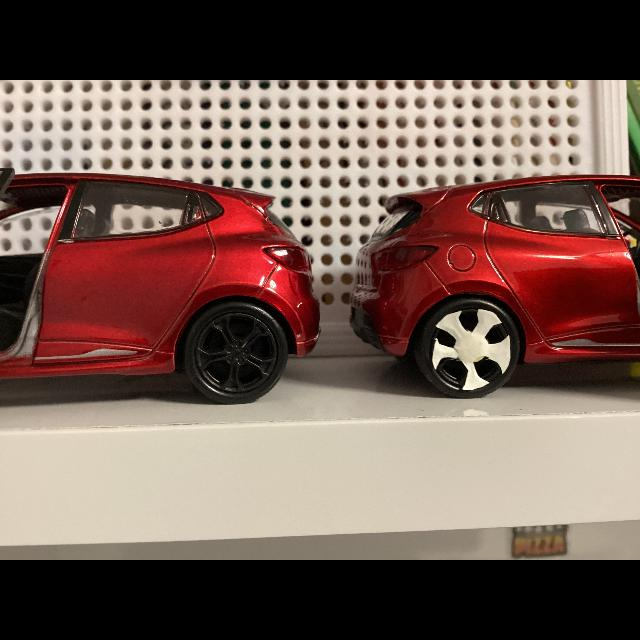Dogru_Jant: (195, 313, 278, 393)
Yanlis_Jant: (431, 308, 512, 392)
